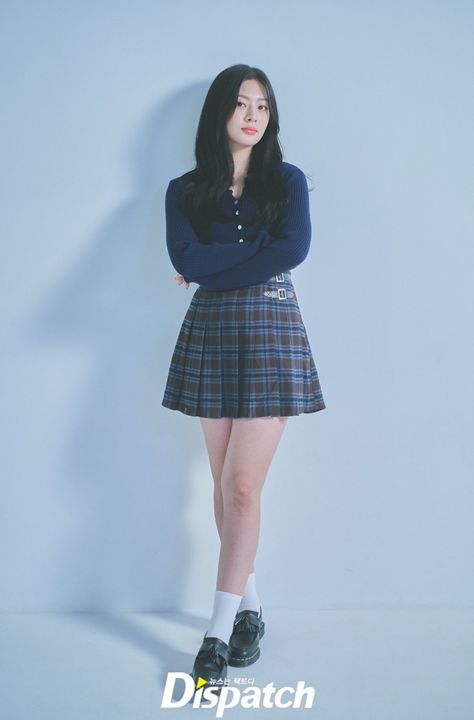person: (149, 61, 336, 692)
